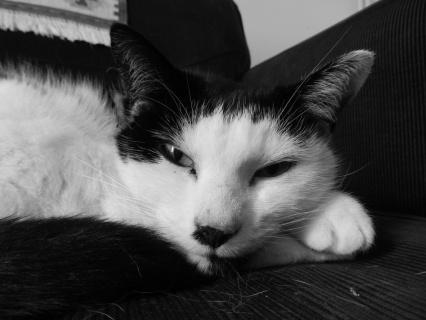Cat: (0, 20, 376, 319)
